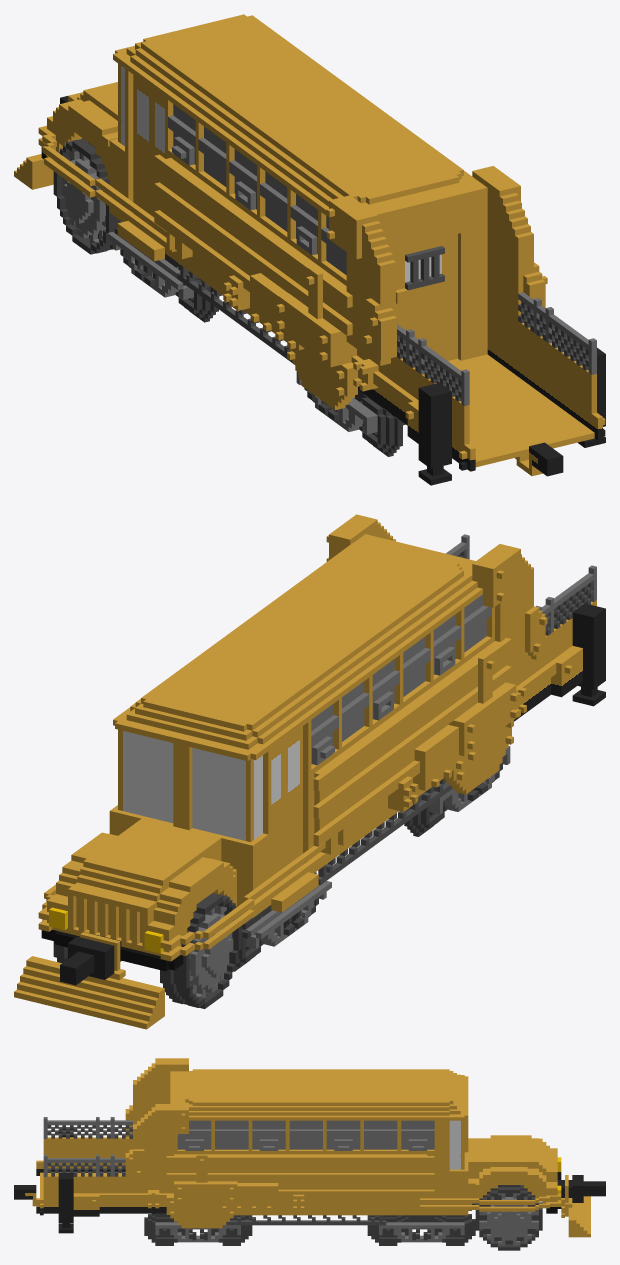
Rendered from train_part_5.fbx.
The picture shows the model from 3 angles, top to bottom: view 1: azimuth 30°, elevation 25°; view 2: azimuth 150°, elevation 25°; view 3: azimuth 270°, elevation 25°; orthographic projection. The views are drawn at different scales.
Parts seen in each view (by area): view 1: train_part_04.train_part_04; view 2: train_part_04.train_part_04; view 3: train_part_04.train_part_04.
Boxes of the visible parts, x1=… form: train_part_04.train_part_04: x1=14, y1=14, x2=605, y2=485; train_part_04.train_part_04: x1=14, y1=514, x2=605, y2=1029; train_part_04.train_part_04: x1=14, y1=1058, x2=605, y2=1250.
Bounding box in the file's own units: 3.7 × 4.4 × 15.9.
1 material, 1 textured.
